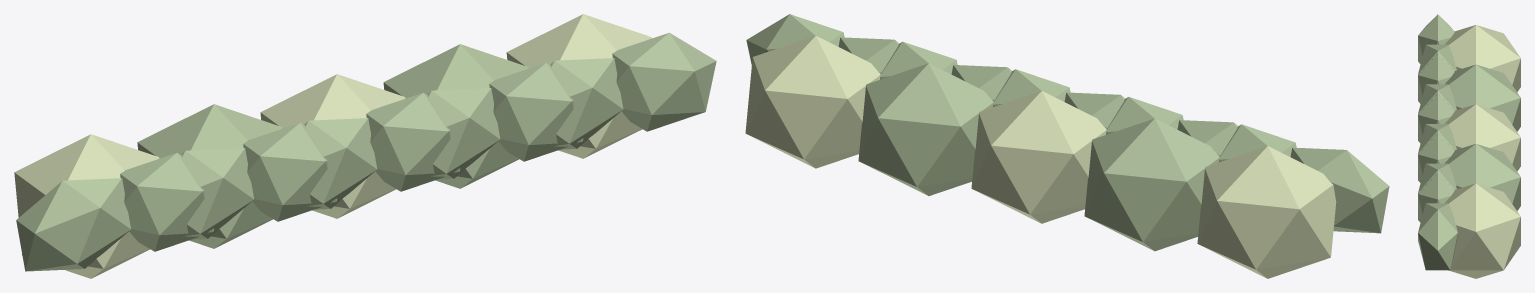
File: Garden_Broadleaf_Clump.fbx
3 renders of one model, left to right at view 1: azimuth 30°, elevation 25°; view 2: azimuth 150°, elevation 25°; view 3: azimuth 270°, elevation 25°, orthographic. The views are drawn at different scales.
Visible parts, largest first — view 1: Cabbage_Leaf, Cabbage_Leaf.009, Cabbage_Head, Cabbage_Leaf.005, Cabbage_Leaf.001, Cabbage_Leaf.007, Cabbage_Leaf.003, Cabbage_Head.001, Cabbage_Head.002, Cabbage_Head.003, Cabbage_Head.004, Cabbage_Leaf.002 (+3 smaller); view 2: Cabbage_Head, Cabbage_Head.002, Cabbage_Head.001, Cabbage_Head.004, Cabbage_Head.003, Cabbage_Leaf, Cabbage_Leaf.009, Cabbage_Leaf.003, Cabbage_Leaf.001, Cabbage_Leaf.007, Cabbage_Leaf.005, Cabbage_Leaf.002 (+3 smaller); view 3: Cabbage_Head.004, Cabbage_Head.002, Cabbage_Head.001, Cabbage_Head.003, Cabbage_Head, Cabbage_Leaf.009, Cabbage_Leaf, Cabbage_Leaf.002, Cabbage_Leaf.008, Cabbage_Leaf.006, Cabbage_Leaf.004, Cabbage_Leaf.001 (+3 smaller).
Part boxes in pixels (x1,y1,x2,y2): Cabbage_Leaf: (16, 178, 131, 271); Cabbage_Leaf.009: (612, 32, 716, 131); Cabbage_Head: (14, 134, 159, 278); Cabbage_Leaf.005: (366, 92, 460, 191); Cabbage_Leaf.001: (120, 153, 213, 251); Cabbage_Leaf.007: (489, 62, 583, 161); Cabbage_Leaf.003: (243, 123, 337, 221); Cabbage_Head.001: (137, 104, 282, 248); Cabbage_Head.002: (260, 74, 405, 218); Cabbage_Head.003: (383, 44, 528, 188); Cabbage_Head.004: (506, 14, 651, 158); Cabbage_Leaf.002: (181, 148, 254, 239); Cabbage_Head: (1197, 146, 1336, 278); Cabbage_Head.002: (971, 91, 1106, 223); Cabbage_Head.001: (1084, 118, 1219, 251); Cabbage_Head.004: (745, 35, 880, 168); Cabbage_Head.003: (858, 63, 993, 195); Cabbage_Leaf: (1290, 147, 1389, 233); Cabbage_Leaf.009: (746, 14, 844, 65); Cabbage_Leaf.003: (1106, 97, 1183, 134); Cabbage_Leaf.001: (1219, 124, 1296, 162); Cabbage_Leaf.007: (880, 41, 957, 79); Cabbage_Leaf.005: (993, 69, 1070, 106); Cabbage_Leaf.002: (1177, 120, 1237, 156); Cabbage_Head.004: (1444, 183, 1520, 278); Cabbage_Head.002: (1444, 104, 1520, 171); Cabbage_Head.001: (1445, 64, 1520, 131); Cabbage_Head.003: (1444, 144, 1520, 210); Cabbage_Head: (1445, 25, 1520, 92); Cabbage_Leaf.009: (1418, 203, 1457, 270); Cabbage_Leaf: (1418, 14, 1454, 63); Cabbage_Leaf.002: (1418, 54, 1454, 103); Cabbage_Leaf.008: (1418, 173, 1454, 222); Cabbage_Leaf.006: (1418, 133, 1454, 182); Cabbage_Leaf.004: (1418, 93, 1454, 143); Cabbage_Leaf.001: (1418, 44, 1456, 74).
Bounding box in the file's own units: 180 × 36 × 35.12.
